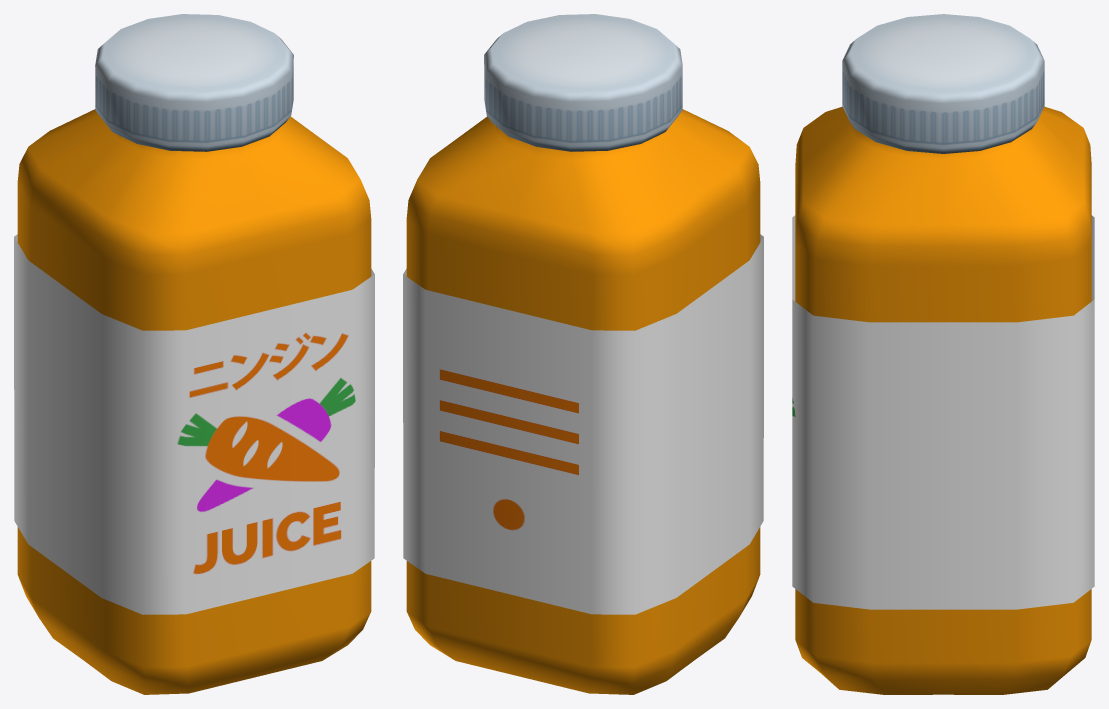
Rendered from Juice_Bottle_05_Carrot.fbx.
3 renders of one model, left to right at view 1: azimuth 30°, elevation 25°; view 2: azimuth 150°, elevation 25°; view 3: azimuth 270°, elevation 25°, orthographic.
Parts seen in each view (by area): view 1: Juice_Bottle_05_Carrot; view 2: Juice_Bottle_05_Carrot; view 3: Juice_Bottle_05_Carrot.
Part boxes in pixels (bbox=[...]): Juice_Bottle_05_Carrot: bbox=[14, 14, 374, 694]; Juice_Bottle_05_Carrot: bbox=[403, 14, 763, 694]; Juice_Bottle_05_Carrot: bbox=[792, 14, 1094, 694].
Bounding box in the file's own units: 2.85 × 6.08 × 2.84.
